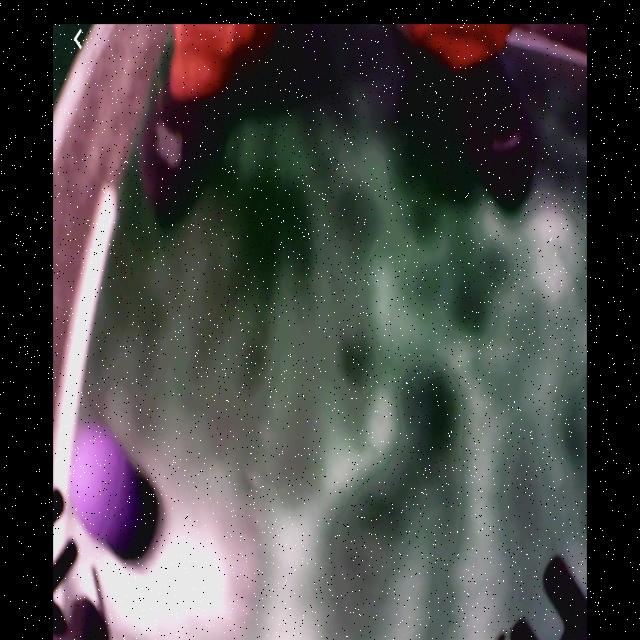ball: (68, 422, 131, 541)
